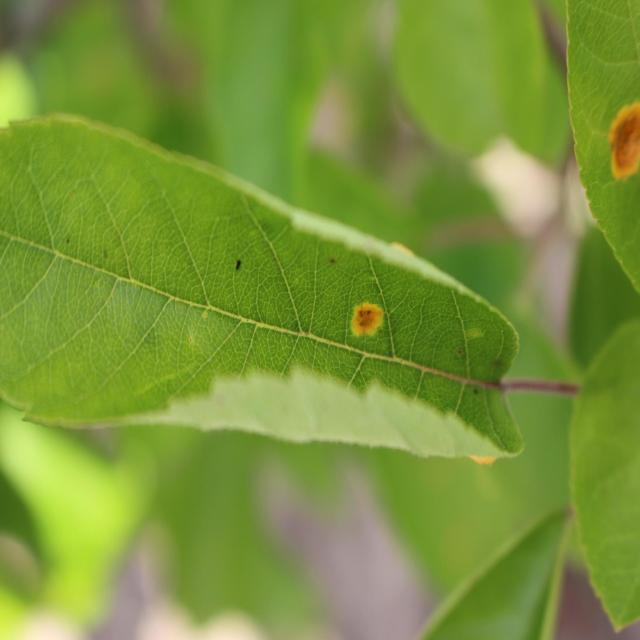Rust: (607, 80, 640, 206), (346, 290, 394, 349)
